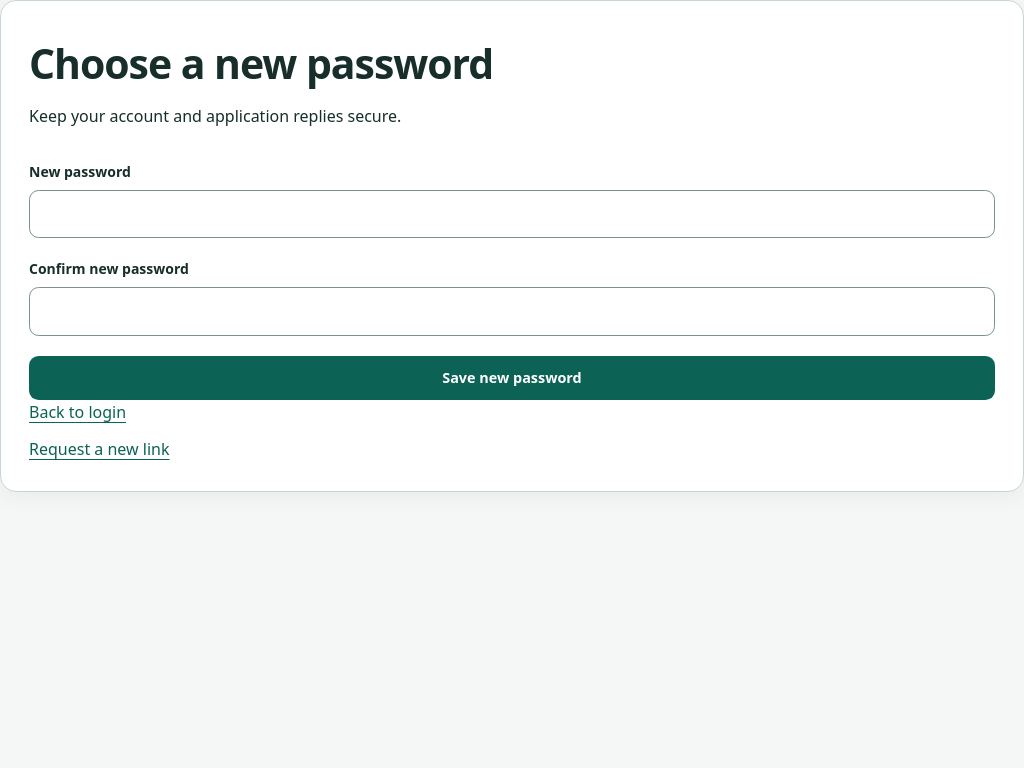
Test: shows all password errors and checks mismatch locally
Type "weak" into the password field labelled "New password" at {"x": 512, "y": 214}, box [29,190,995,238]
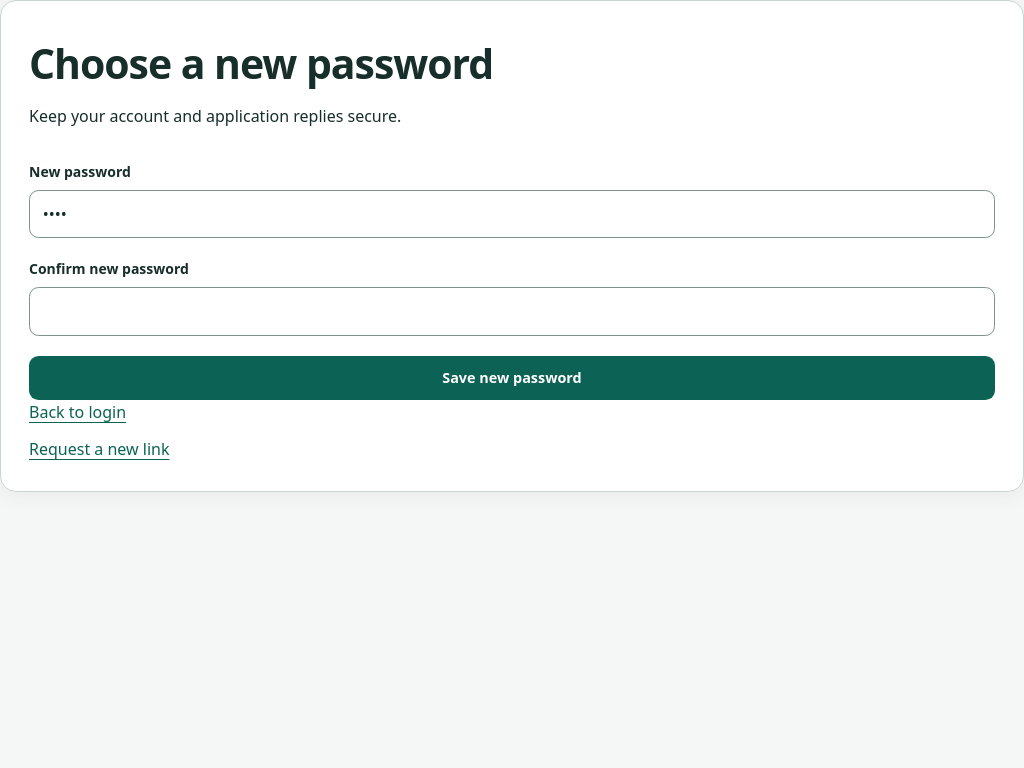
Type "different" into the password field labelled "Confirm new password" at {"x": 512, "y": 312}, box [29,287,995,336]
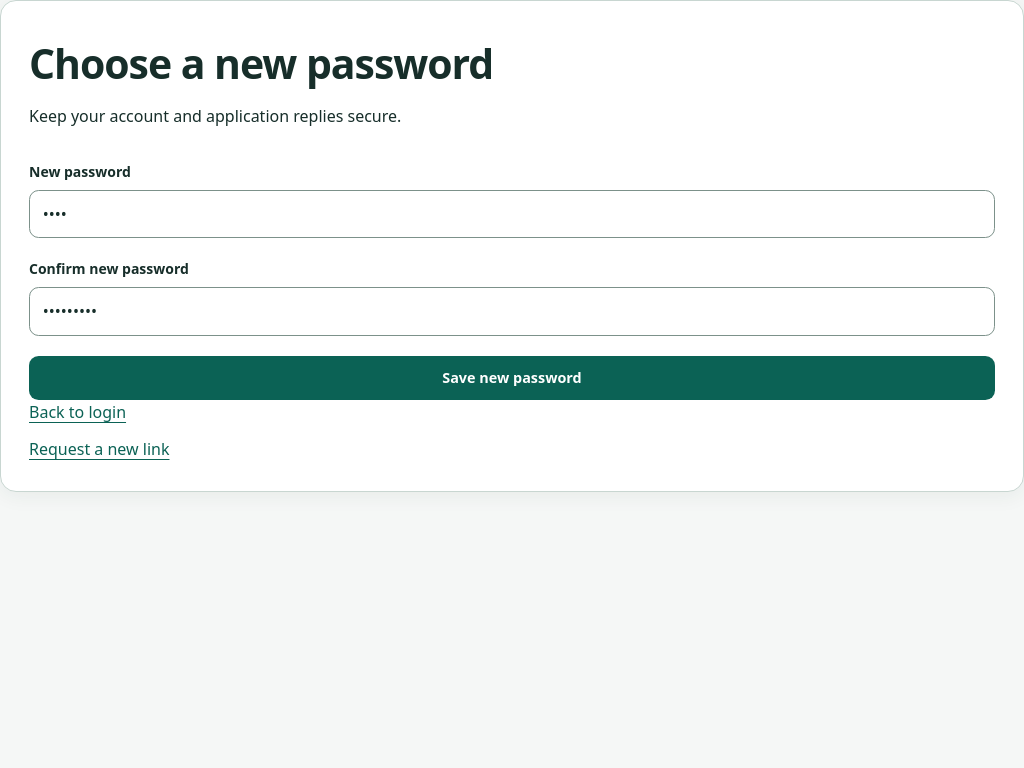
Click the button "Save new password" at {"x": 512, "y": 378}, box [29,356,995,400]
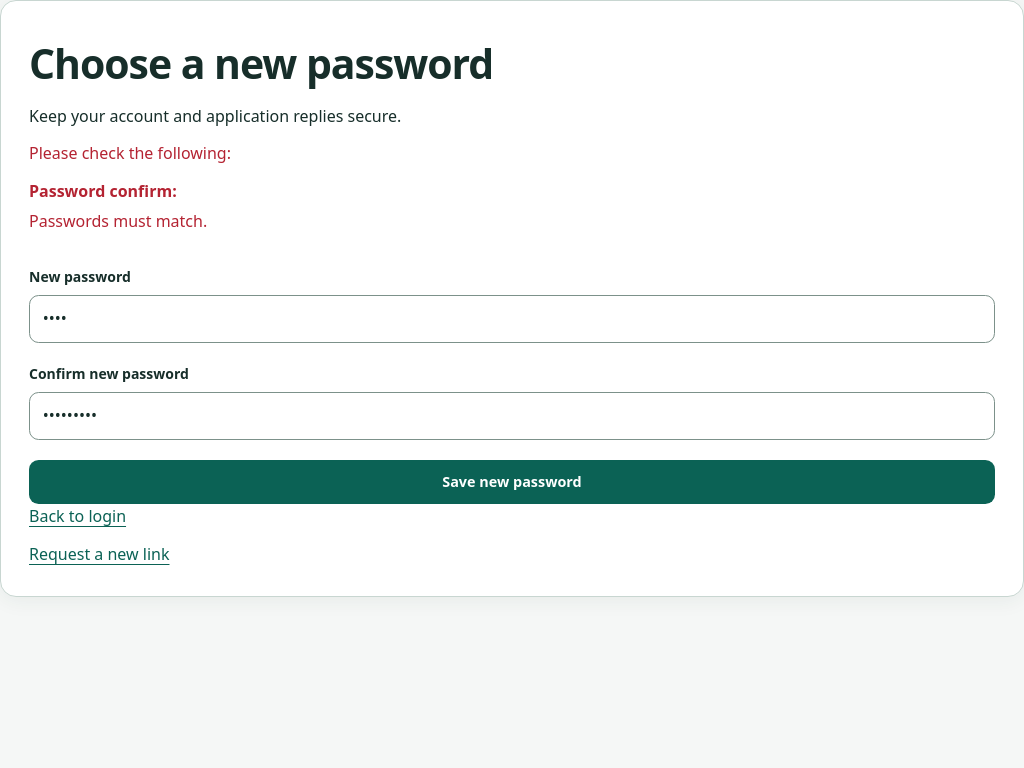
Result: the message shows "Passwords must match" at [29,210,207,232]
Type "weak" into the password field labelled "Confirm new password" at {"x": 512, "y": 416}, box [29,392,995,440]
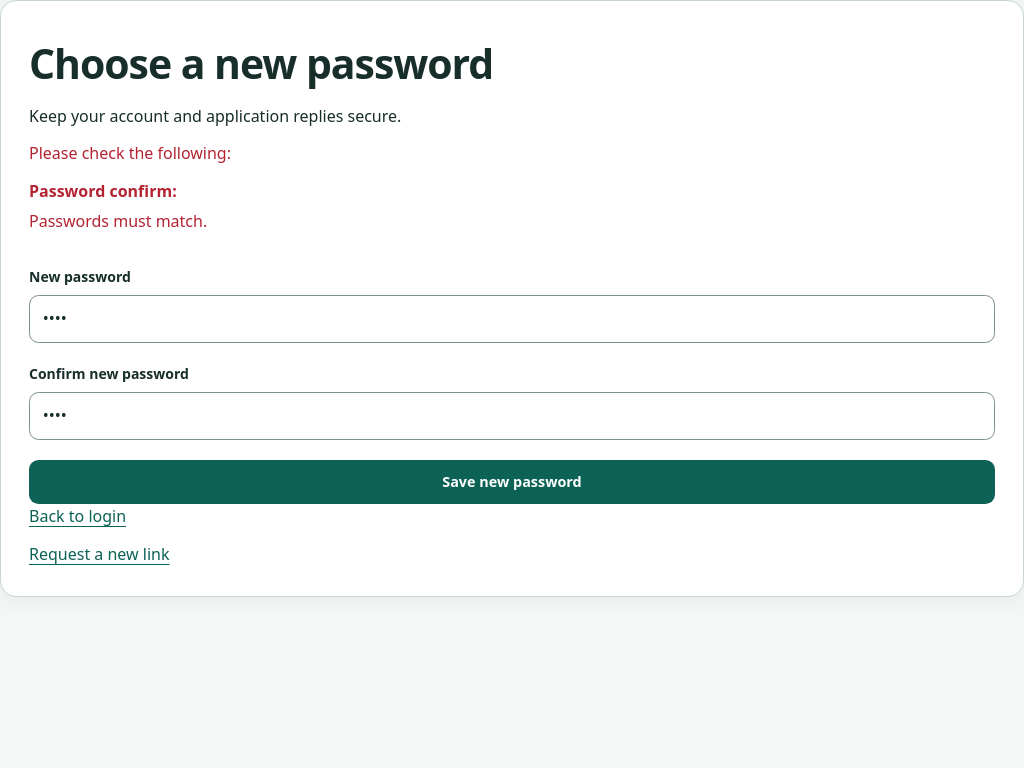
Click the button "Save new password" at {"x": 512, "y": 482}, box [29,460,995,504]
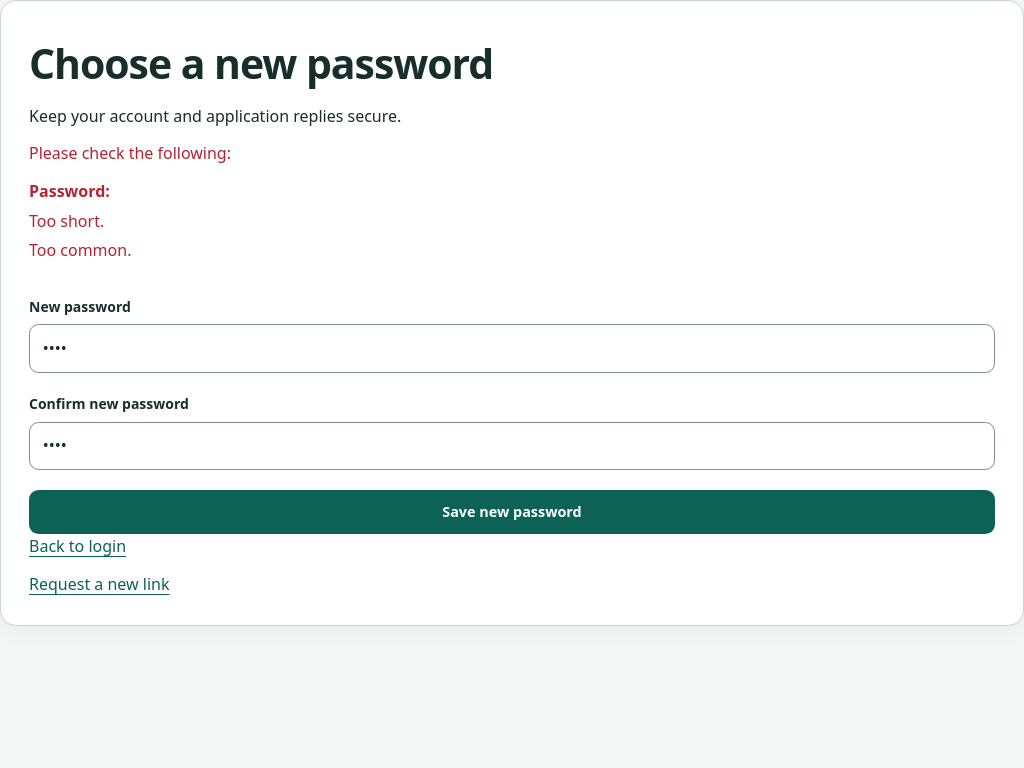
Result: the message shows "Too short. Too common." at [29,142,231,261]
